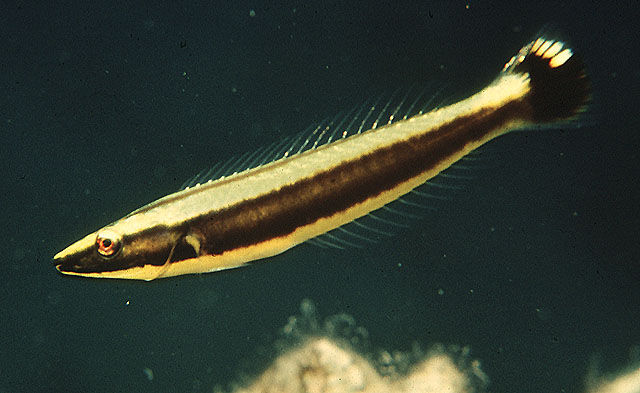fish: (50, 25, 597, 281)
